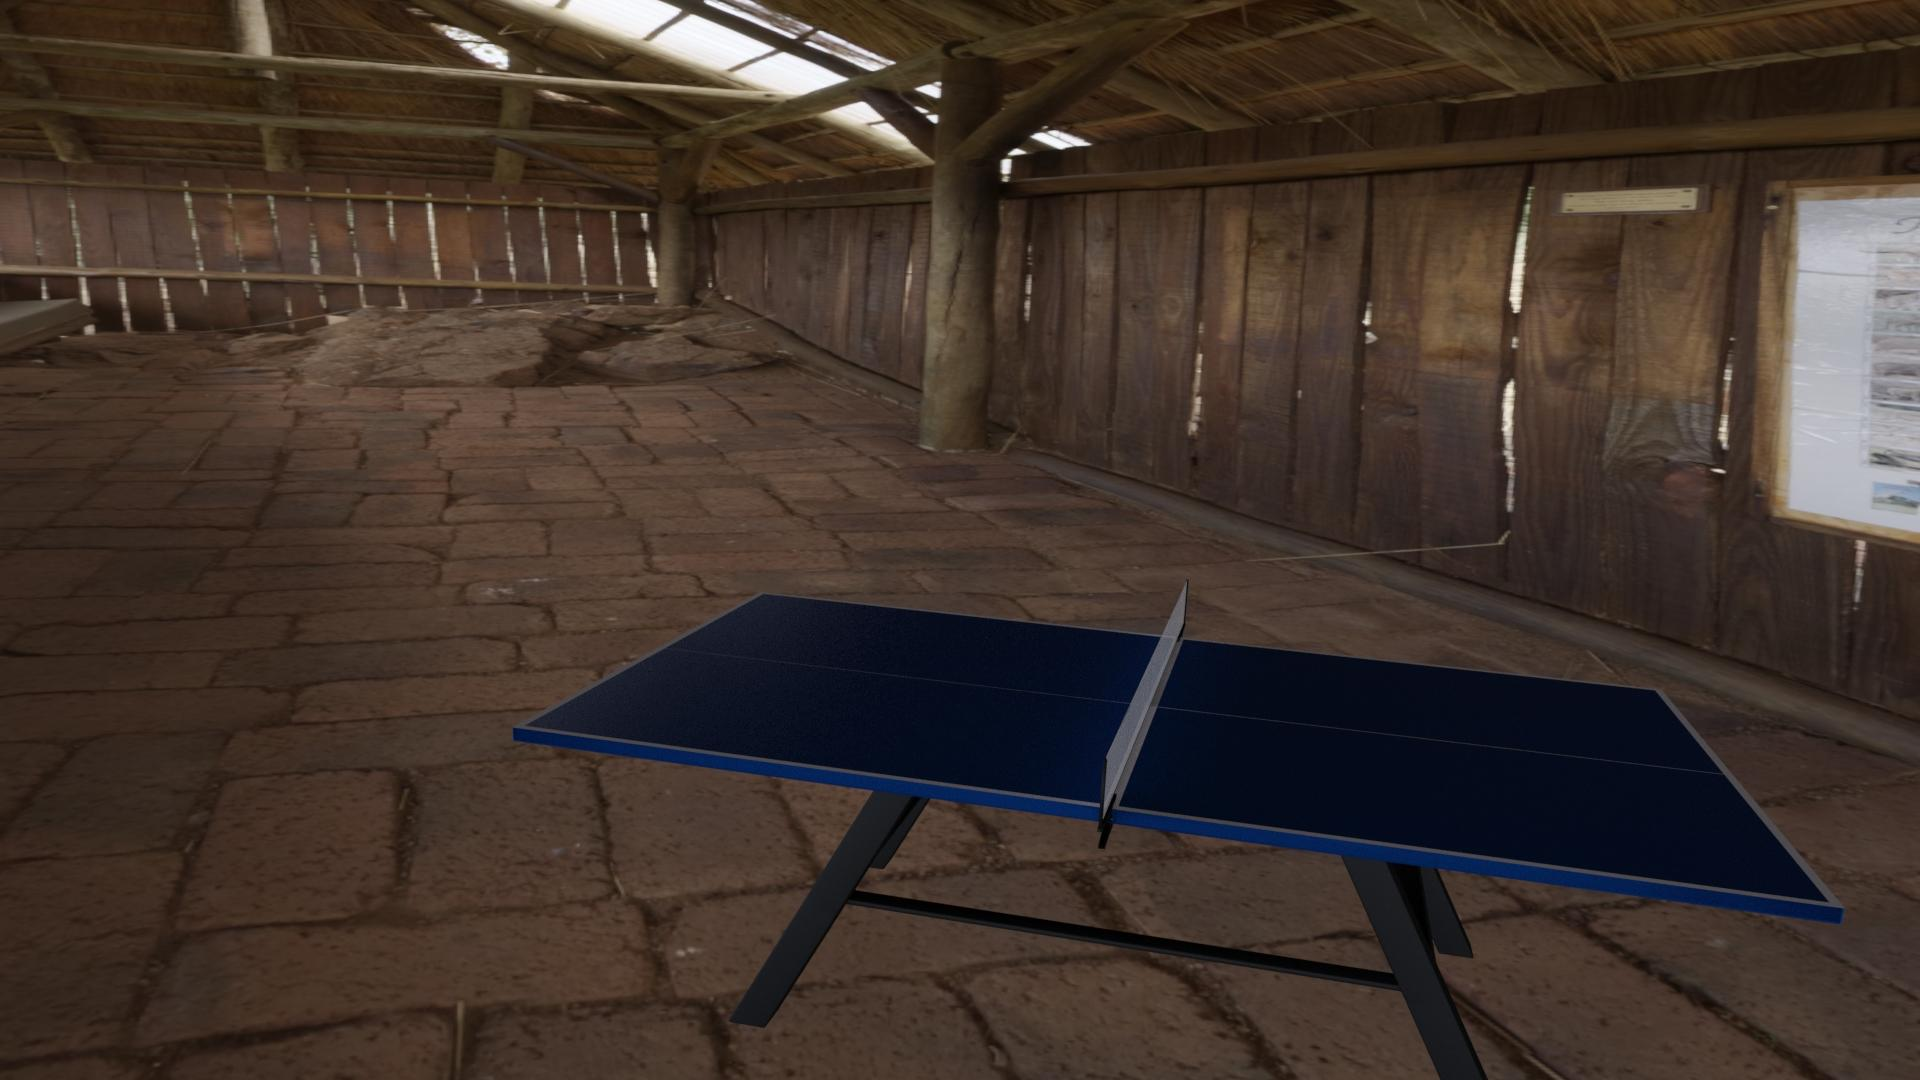table: (525, 593, 1829, 902)
